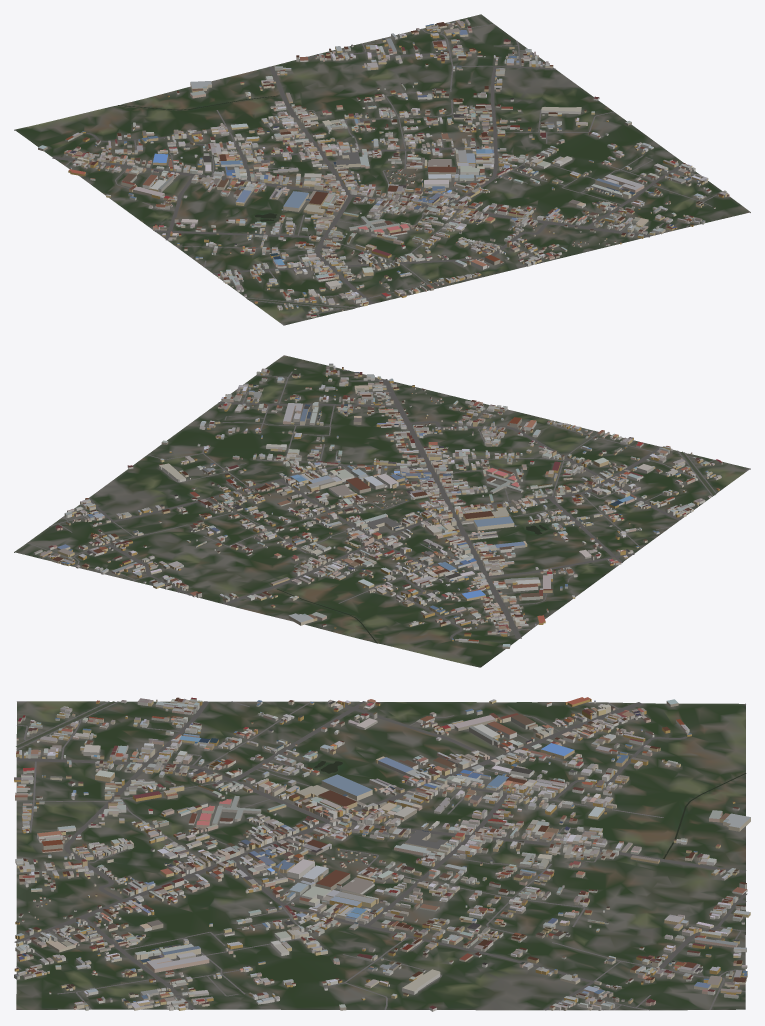
The picture shows the model from 3 angles, top to bottom: view 1: azimuth 30°, elevation 25°; view 2: azimuth 150°, elevation 25°; view 3: azimuth 270°, elevation 25°; orthographic projection. The views are drawn at different scales.
Parts seen in each view (by area): view 1: ground, buildings, roads; view 2: ground, buildings, roads; view 3: ground, buildings, roads, water.
Part boxes in pixels (left/top/right/bottom): ground: left=14, top=14, right=750, bottom=325; buildings: left=38, top=19, right=729, bottom=317; roads: left=14, top=21, right=722, bottom=325; ground: left=14, top=355, right=750, bottom=667; buildings: left=33, top=363, right=722, bottom=648; roads: left=27, top=370, right=750, bottom=667; ground: left=16, top=701, right=745, bottom=1010; buildings: left=14, top=697, right=750, bottom=1011; roads: left=14, top=701, right=747, bottom=1010; water: left=16, top=701, right=746, bottom=858.
Bounding box in the file's own units: 1419 × 25.18 × 1415.
